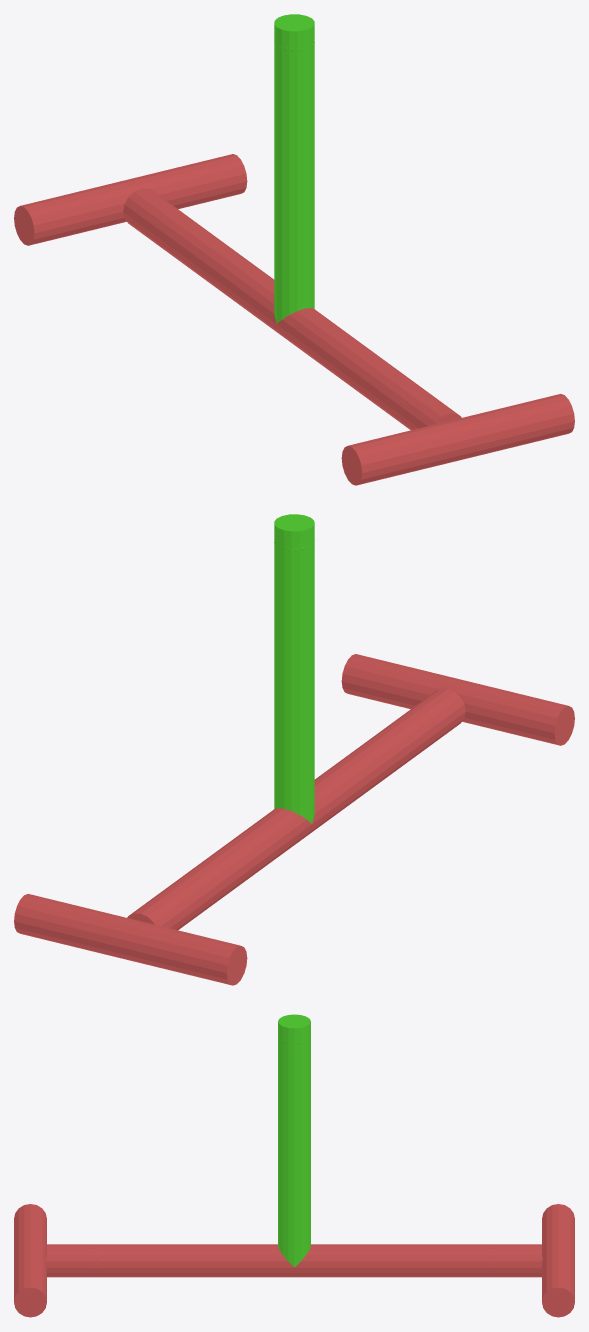
File: gizmo_scale.glb
The picture shows the model from 3 angles, top to bottom: view 1: azimuth 30°, elevation 25°; view 2: azimuth 150°, elevation 25°; view 3: azimuth 270°, elevation 25°; orthographic projection. The views are drawn at different scales.
Parts seen in each view (by area): view 1: GIZ_X_COL, GIZ_Y_COL, GIZ_X_RIGHT_COL, GIZ_X_LEFT_COL; view 2: GIZ_X_COL, GIZ_Y_COL, GIZ_X_LEFT_COL, GIZ_X_RIGHT_COL; view 3: GIZ_X_COL, GIZ_Y_COL, GIZ_X_RIGHT_COL, GIZ_X_LEFT_COL.
Boxes of the visible parts, x1,y1,x2,y2 form: GIZ_X_COL: (123, 188, 461, 430); GIZ_Y_COL: (274, 14, 314, 323); GIZ_X_RIGHT_COL: (341, 394, 574, 485); GIZ_X_LEFT_COL: (14, 154, 247, 245); GIZ_X_COL: (127, 688, 465, 930); GIZ_Y_COL: (274, 514, 314, 823); GIZ_X_LEFT_COL: (14, 894, 247, 985); GIZ_X_RIGHT_COL: (341, 654, 574, 745); GIZ_X_COL: (47, 1244, 541, 1277); GIZ_Y_COL: (278, 1014, 310, 1267); GIZ_X_RIGHT_COL: (14, 1204, 46, 1317); GIZ_X_LEFT_COL: (542, 1204, 574, 1317).
Size of the model in its own units: 0.75 by 1.06 by 2.12.
Materials: 1 (1 with a texture image).
